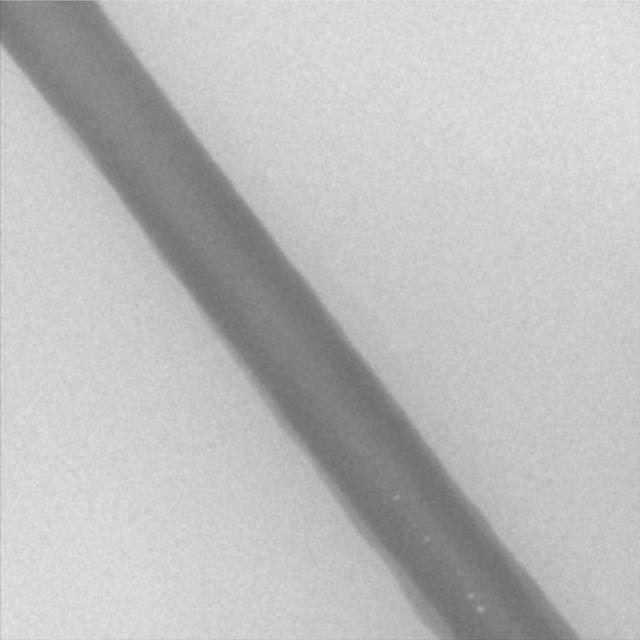air hole: (476, 603, 487, 615), (422, 533, 432, 545), (465, 589, 475, 599), (392, 493, 401, 503)
